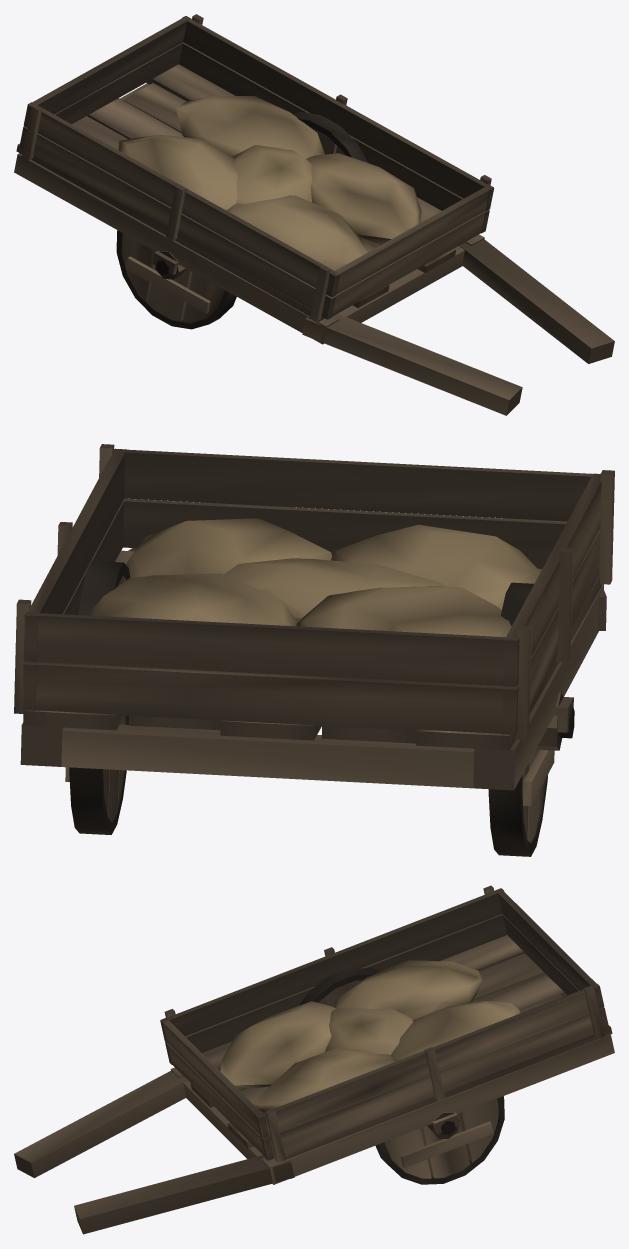
Rendered from Aracart03.glb.
3 renders of one model, top to bottom at view 1: azimuth 30°, elevation 25°; view 2: azimuth 150°, elevation 25°; view 3: azimuth 270°, elevation 25°, orthographic. The views are drawn at different scales.
Parts seen in each view (by area): view 1: Aracart03; view 2: Aracart03; view 3: Aracart03.
Part boxes in pixels (<box>): Aracart03: <box>14,14,614,415</box>; Aracart03: <box>14,444,614,856</box>; Aracart03: <box>14,885,614,1234</box>.
Bounding box in the file's own units: 3.28 × 1.54 × 4.76.
